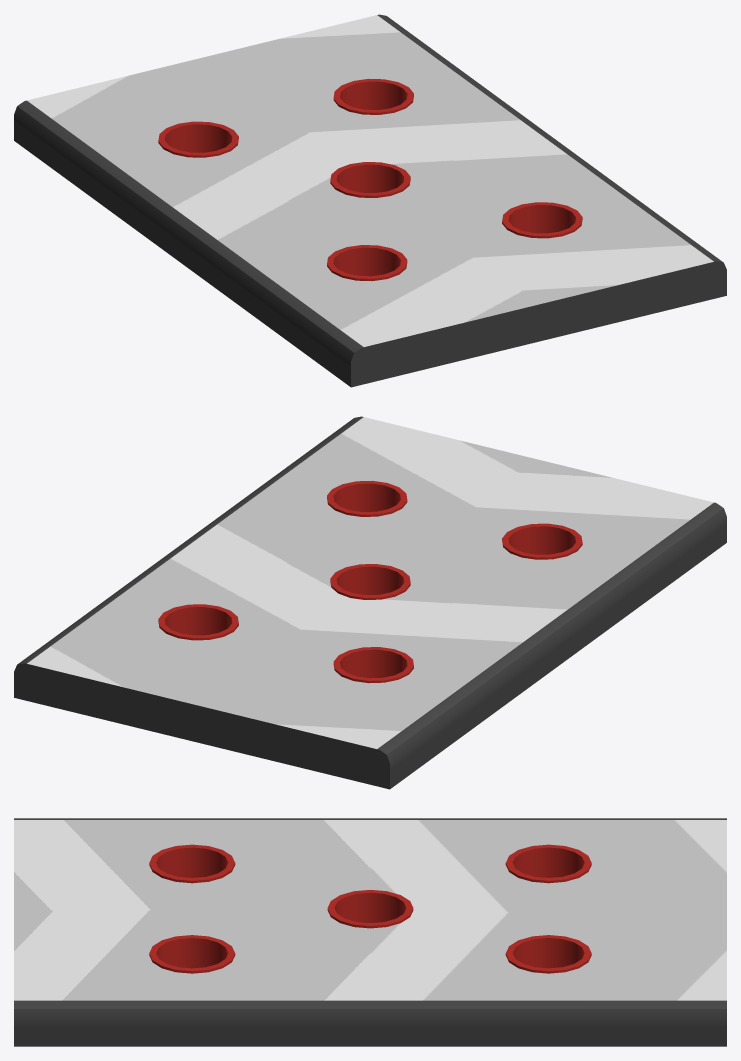
File: platform.ball.fbx
3 renders of one model, top to bottom at view 1: azimuth 30°, elevation 25°; view 2: azimuth 150°, elevation 25°; view 3: azimuth 270°, elevation 25°, orthographic. The views are drawn at different scales.
Visible parts, largest first — view 1: obstacle.ball; view 2: obstacle.ball; view 3: obstacle.ball.
Part boxes in pixels (box(x1,y1,x2,y2)): obstacle.ball: box(14, 14, 726, 387); obstacle.ball: box(14, 416, 726, 789); obstacle.ball: box(14, 818, 726, 1046).
Bounding box in the file's own units: 481 × 50.91 × 747.
